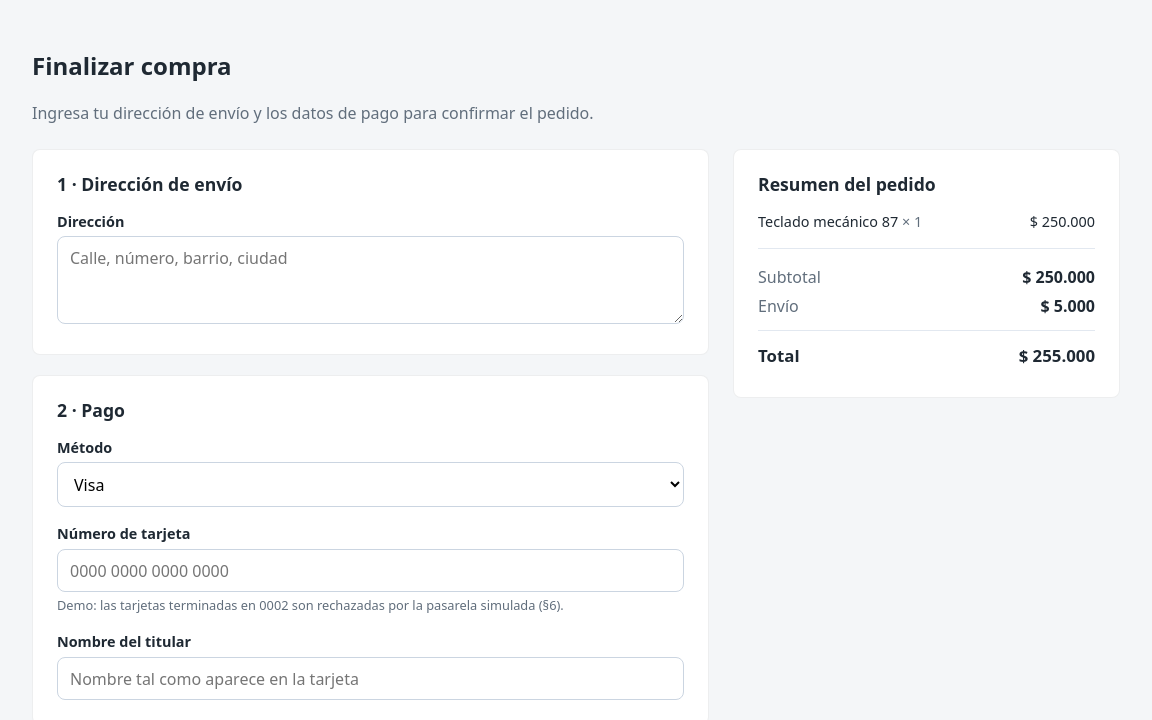
Test: CheckoutPage › con éxito muestra el número de orden y el enlace a mis órdenes
Type "Calle 1 # 2-3, Bogotá" into the text box labelled "Dirección" at (371, 280), box [57,236,684,324]
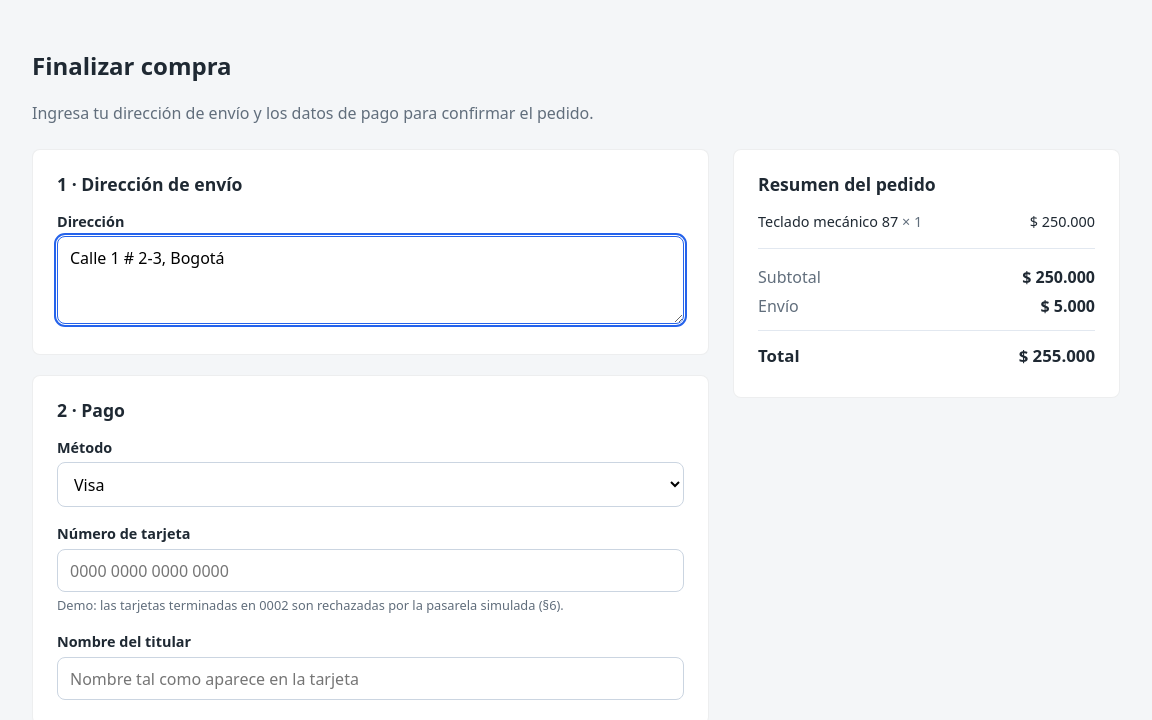
Type "4242424242424242" into the field labelled "Número de tarjeta" at (371, 571), box [57,549,684,592]
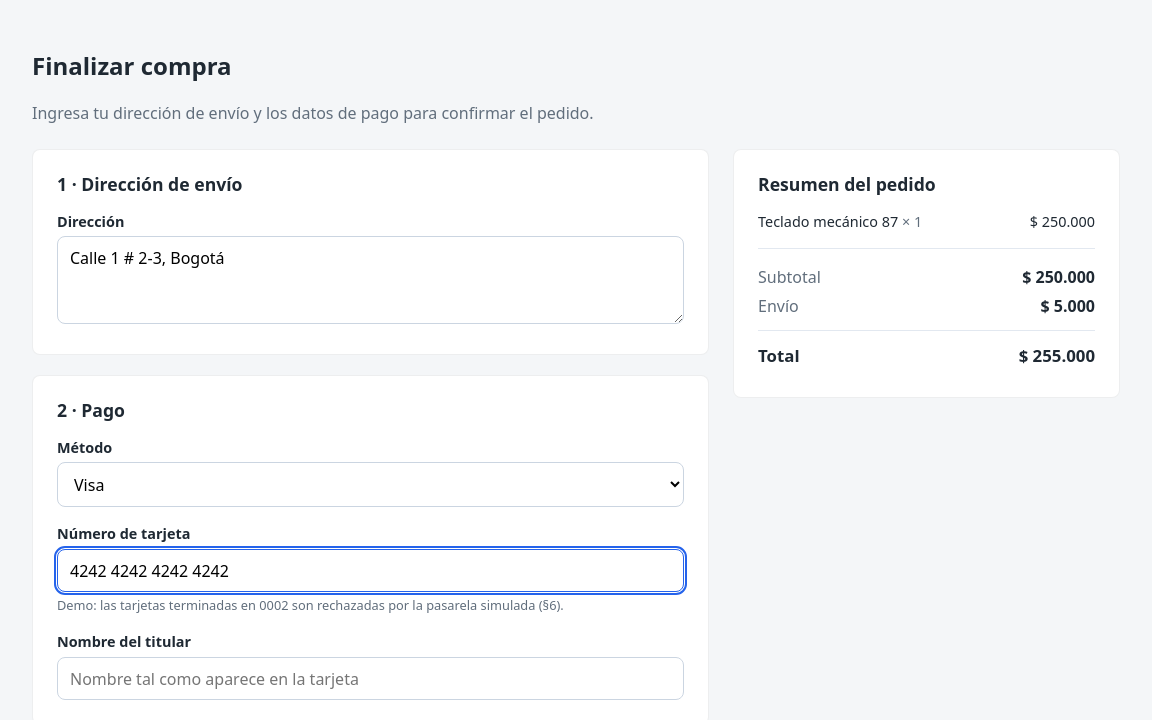
Type "USUARIO DEMO" into the field labelled "Nombre del titular" at (371, 679), box [57,657,684,700]
(page scrolled)
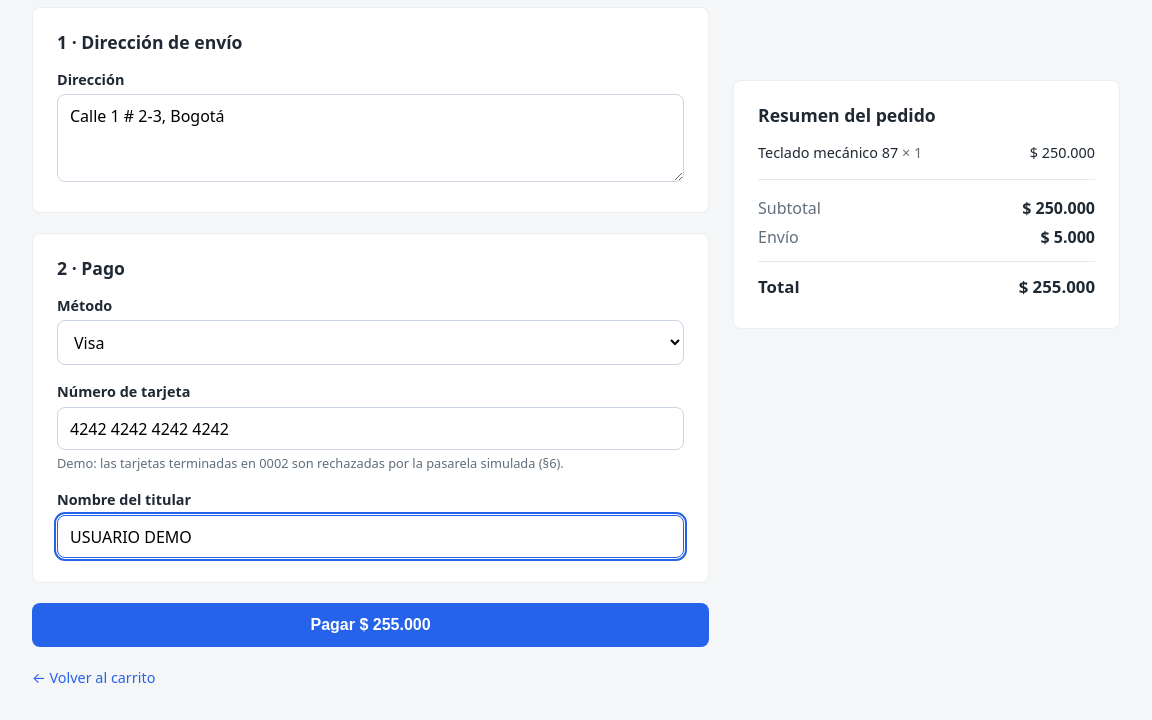
Click the button "Pagar $ 255.000" at (371, 625), box [32,603,709,647]
(page scrolled)
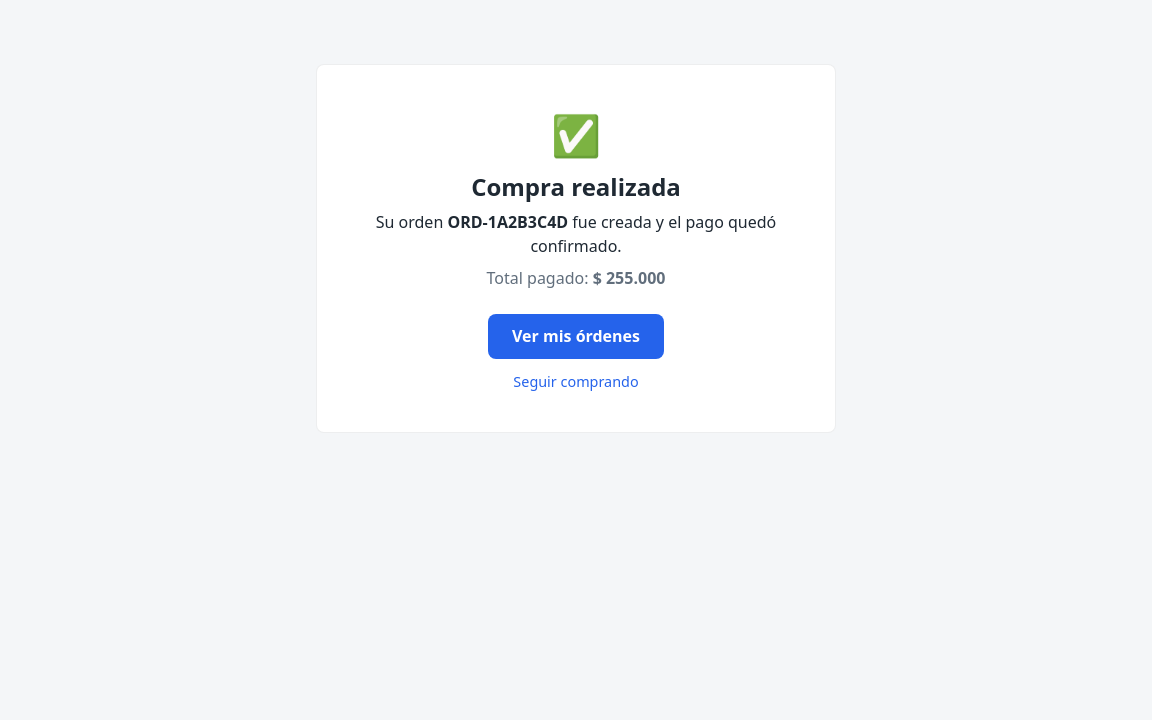
Check: the heading "Compra realizada" is shown, box [471,170,681,203]
Check: the text "ORD-1A2B3C4D" is shown, box [447,211,568,233]
